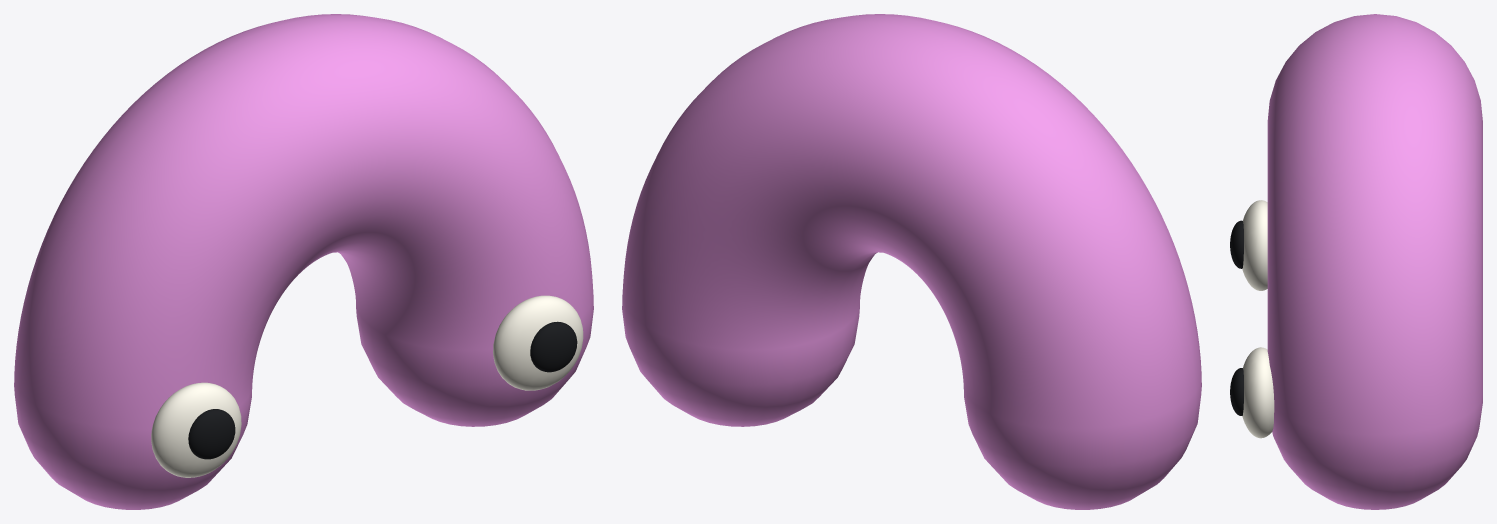
Rendered from img-9944.glb.
The picture shows the model from 3 angles, left to right: view 1: azimuth 30°, elevation 25°; view 2: azimuth 150°, elevation 25°; view 3: azimuth 270°, elevation 25°; orthographic projection. The views are drawn at different scales.
Parts seen in each view (by area): view 1: IMG_9944__Plump pink arch.005, IMG_9944__EyeWhite_0.009, IMG_9944__EyeWhite_1.009, IMG_9944__Pupil_0.009, IMG_9944__Pupil_1.009; view 2: IMG_9944__Plump pink arch.005; view 3: IMG_9944__Plump pink arch.005, IMG_9944__EyeWhite_1.009, IMG_9944__EyeWhite_0.009, IMG_9944__Pupil_1.009, IMG_9944__Pupil_0.009.
Part boxes in pixels (left/top/right/bottom): IMG_9944__Plump pink arch.005: left=14, top=14, right=593, bottom=509; IMG_9944__EyeWhite_0.009: left=151, top=382, right=241, bottom=477; IMG_9944__EyeWhite_1.009: left=493, top=295, right=583, bottom=390; IMG_9944__Pupil_0.009: left=188, top=409, right=235, bottom=459; IMG_9944__Pupil_1.009: left=530, top=321, right=577, bottom=372; IMG_9944__Plump pink arch.005: left=622, top=14, right=1201, bottom=509; IMG_9944__Plump pink arch.005: left=1267, top=14, right=1482, bottom=509; IMG_9944__EyeWhite_1.009: left=1242, top=347, right=1274, bottom=438; IMG_9944__EyeWhite_0.009: left=1242, top=200, right=1267, bottom=290; IMG_9944__Pupil_1.009: left=1230, top=368, right=1243, bottom=415; IMG_9944__Pupil_0.009: left=1230, top=220, right=1243, bottom=268.
Bounding box in the file's own units: 1.34 × 1 × 0.5924.
